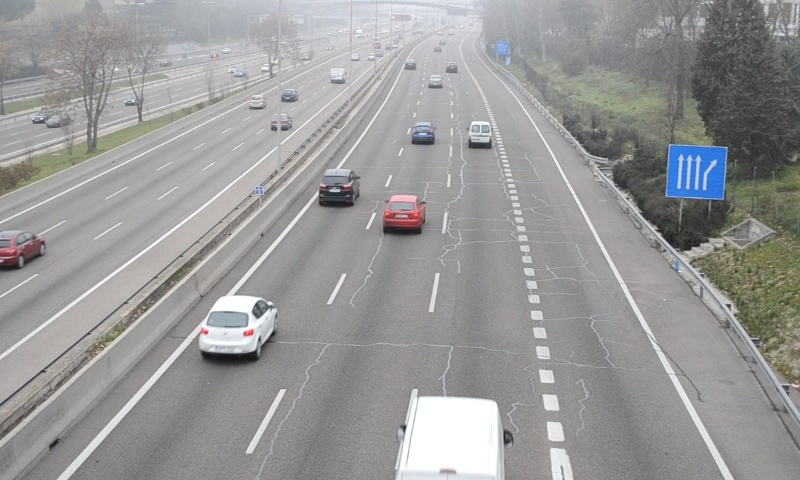car: (198, 296, 278, 354), (384, 194, 424, 230), (319, 169, 359, 204), (411, 122, 435, 144), (428, 74, 443, 88)
van: (393, 395, 506, 480), (468, 120, 493, 147)
